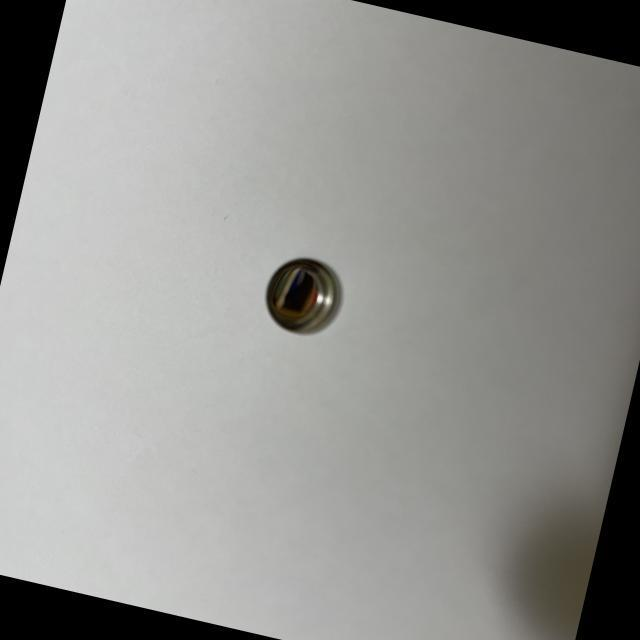COIN: (256, 249, 348, 340)
